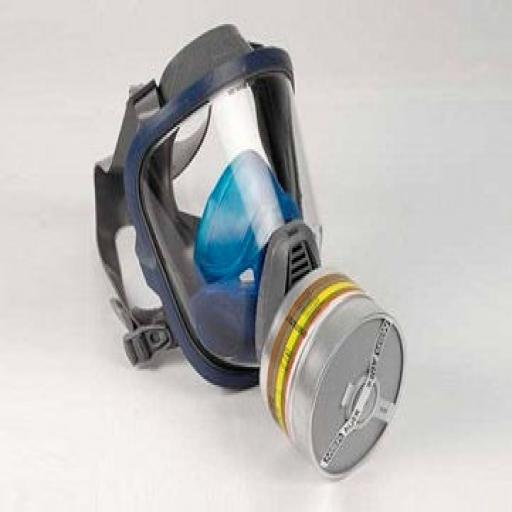mask: (90, 21, 418, 492)
